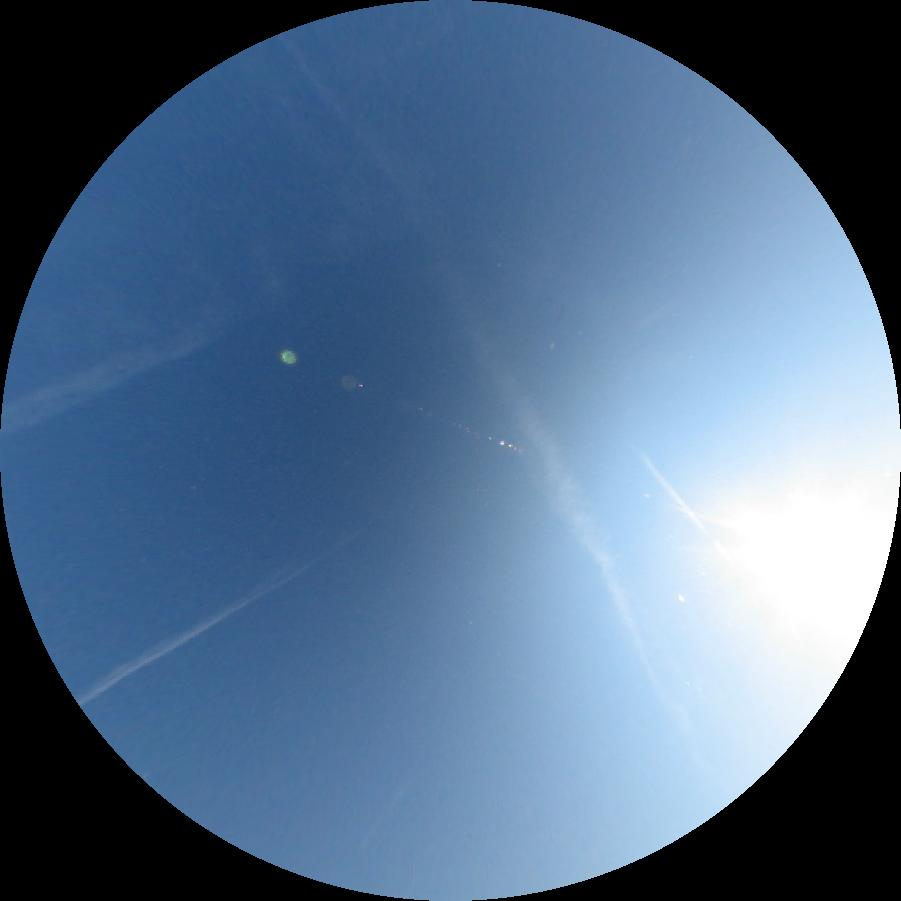contrail old: (638, 451, 730, 565)
contrail veryold: (421, 232, 703, 769), (78, 524, 369, 701), (1, 319, 231, 440)
parasite: (660, 502, 743, 530)
sun: (744, 469, 898, 666)
